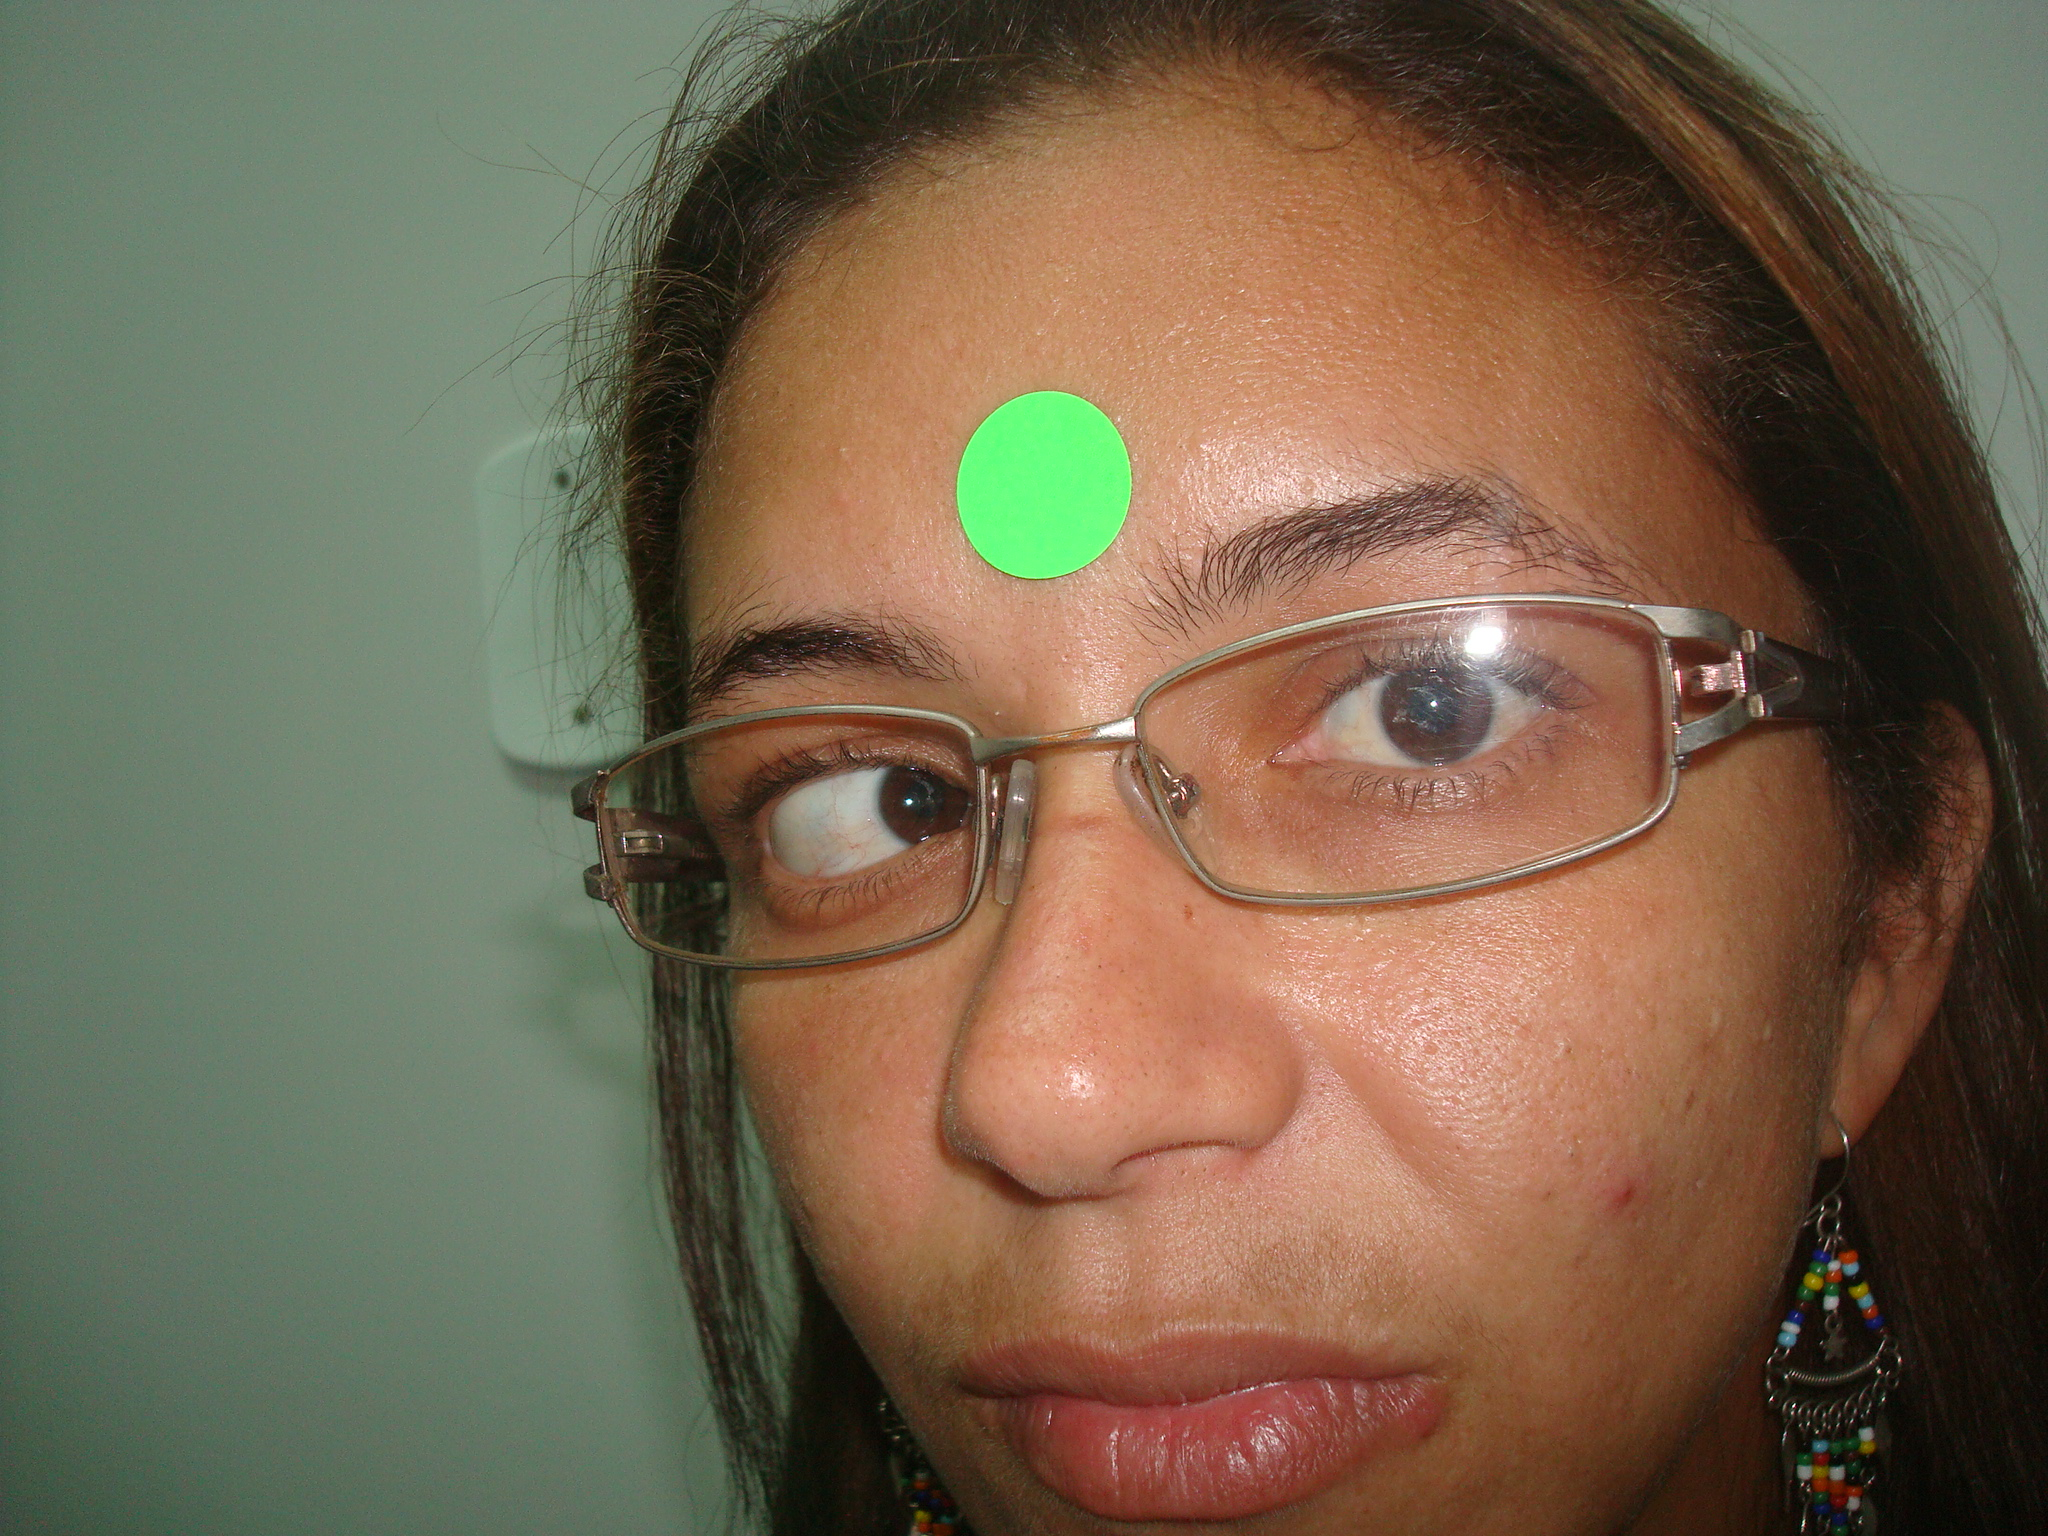flash: (901, 794, 916, 810), (1427, 697, 1440, 712)
limbo: (1374, 660, 1492, 758), (880, 757, 971, 842)
